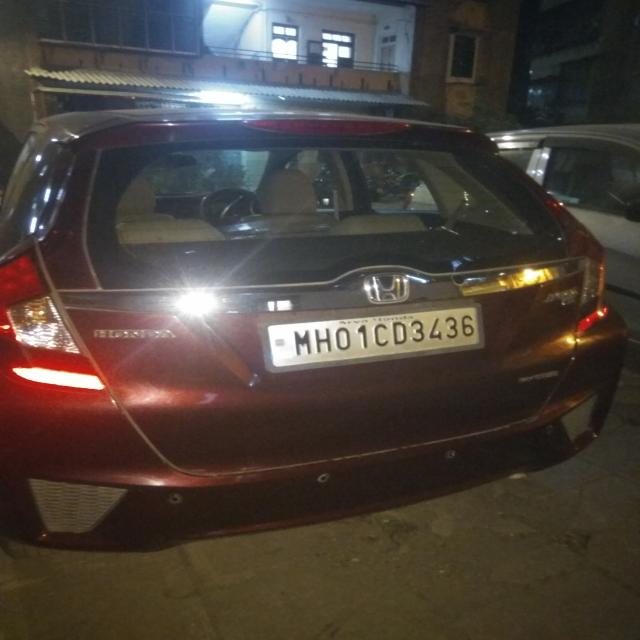Number-Plate: (274, 310, 482, 360)
